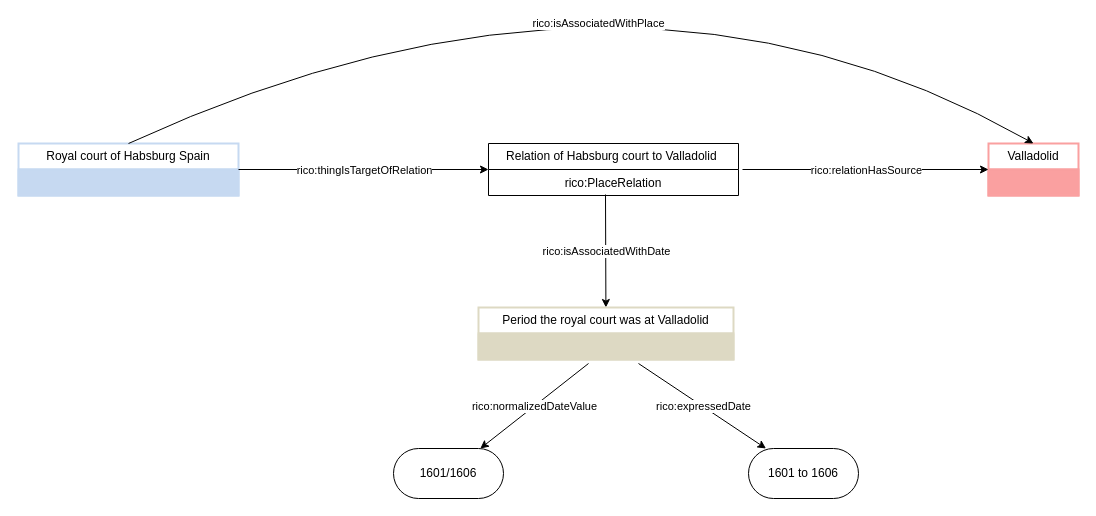
Some shapes in this 1096 by 516 pixel diagram are drawn without their labels. Each missing label, with the centre of its shape:
"rico:Date" goes at point (605, 346).
"rico:Group" goes at point (128, 182).
"rico:Place" goes at point (1033, 182).
